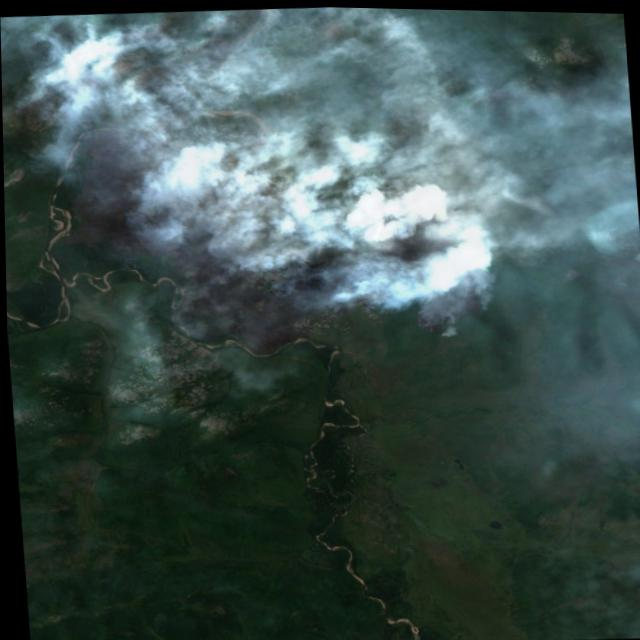fire: (287, 181, 514, 349)
